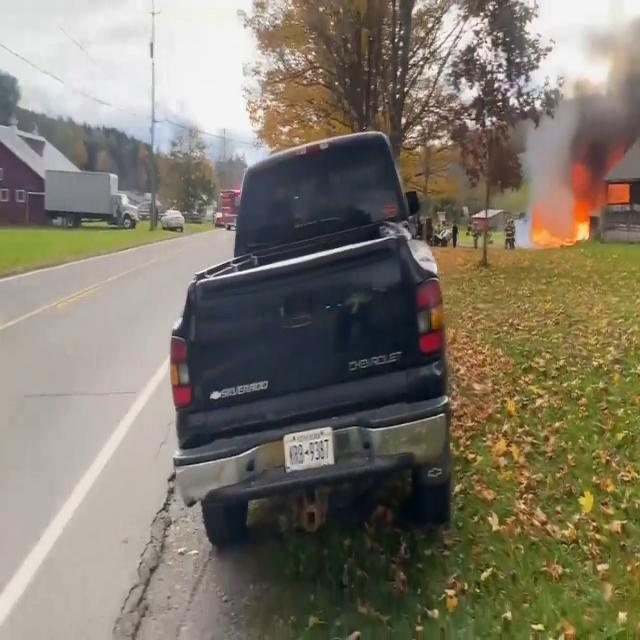Fire: (520, 200, 594, 250)
Smoke: (541, 1, 640, 195)
